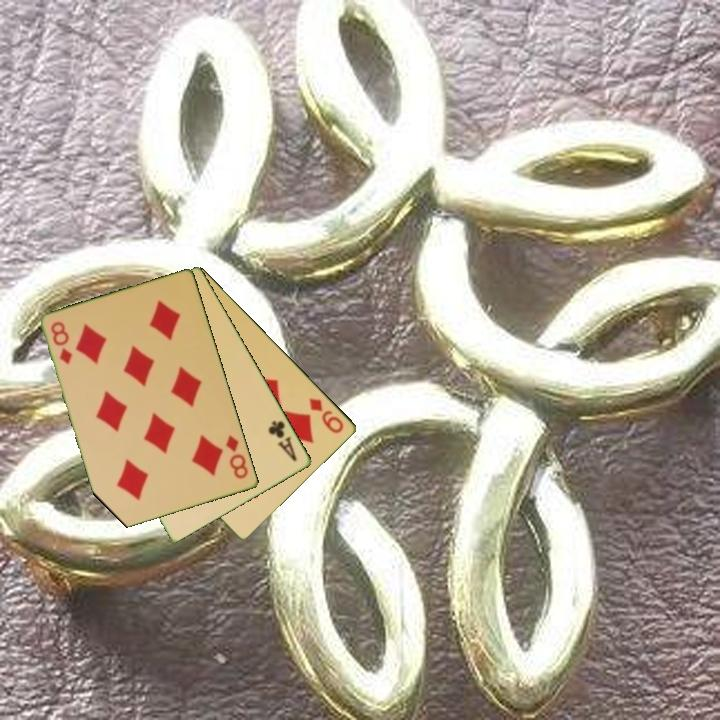8d: (47, 318, 76, 367), (223, 432, 251, 482)
9d: (306, 394, 347, 436)
Ac: (265, 417, 300, 465)
